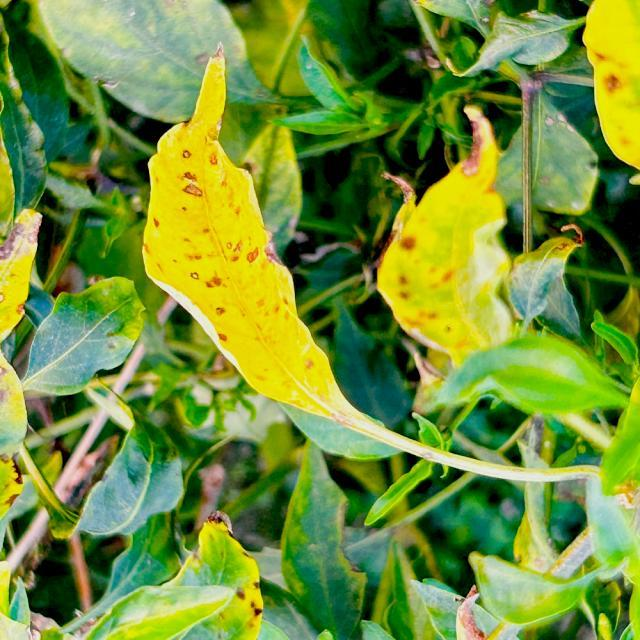Bercak Daun Serkospora: (139, 38, 356, 436), (378, 95, 516, 372)
